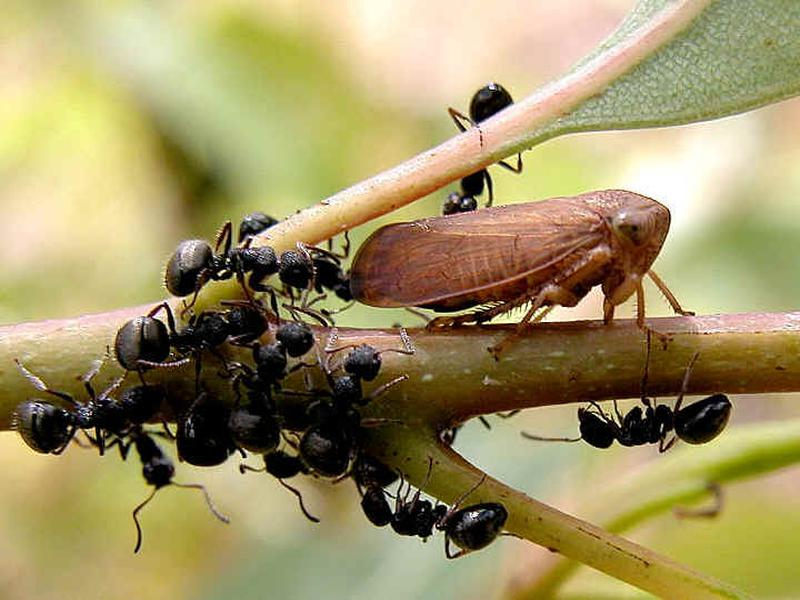Brown_plant_leafhopper: (320, 185, 713, 336), (109, 312, 391, 476)
